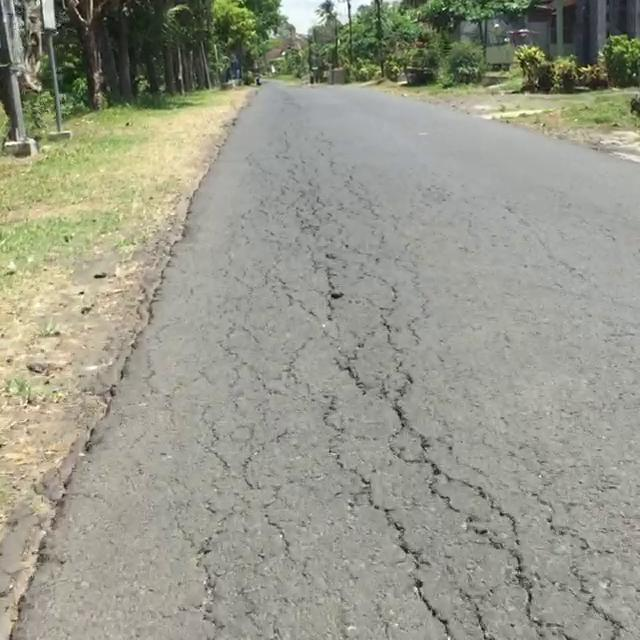retak_kulit_buaya: (195, 174, 520, 640), (388, 414, 638, 640)
